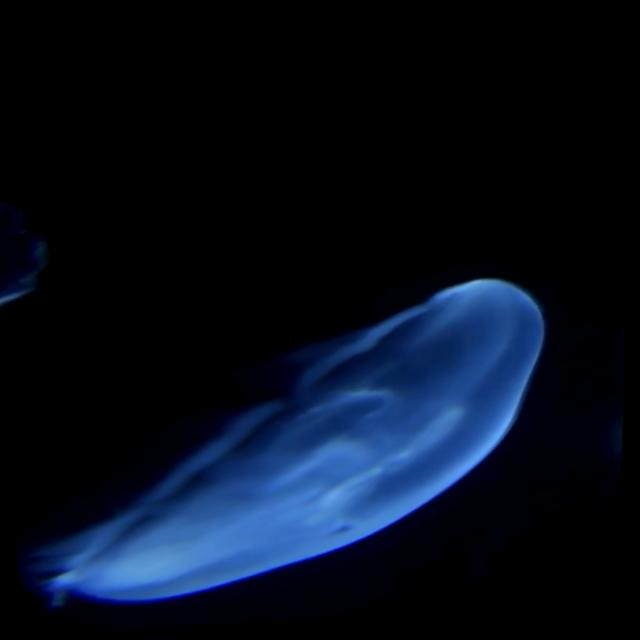Moon-jellyfish: (21, 284, 547, 605)
